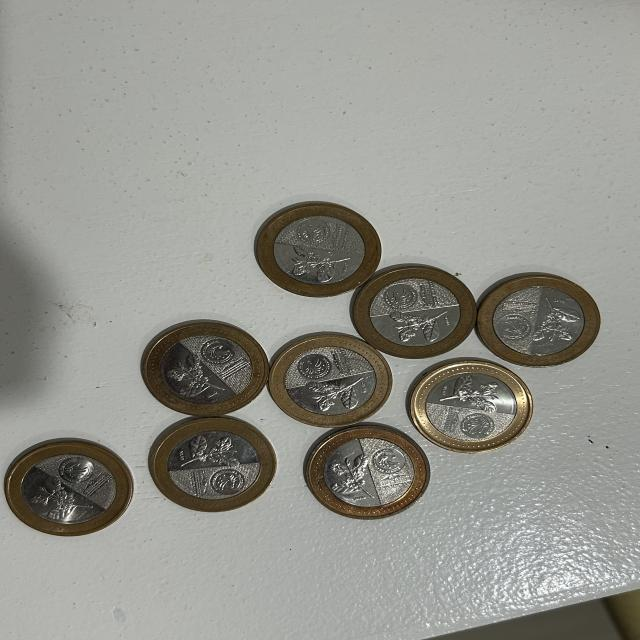20_New_Back: (163, 353, 224, 401), (21, 480, 94, 520), (181, 435, 248, 475), (329, 451, 378, 502), (536, 298, 584, 350), (443, 375, 505, 413), (390, 306, 450, 344), (307, 376, 367, 412), (290, 246, 351, 280)
